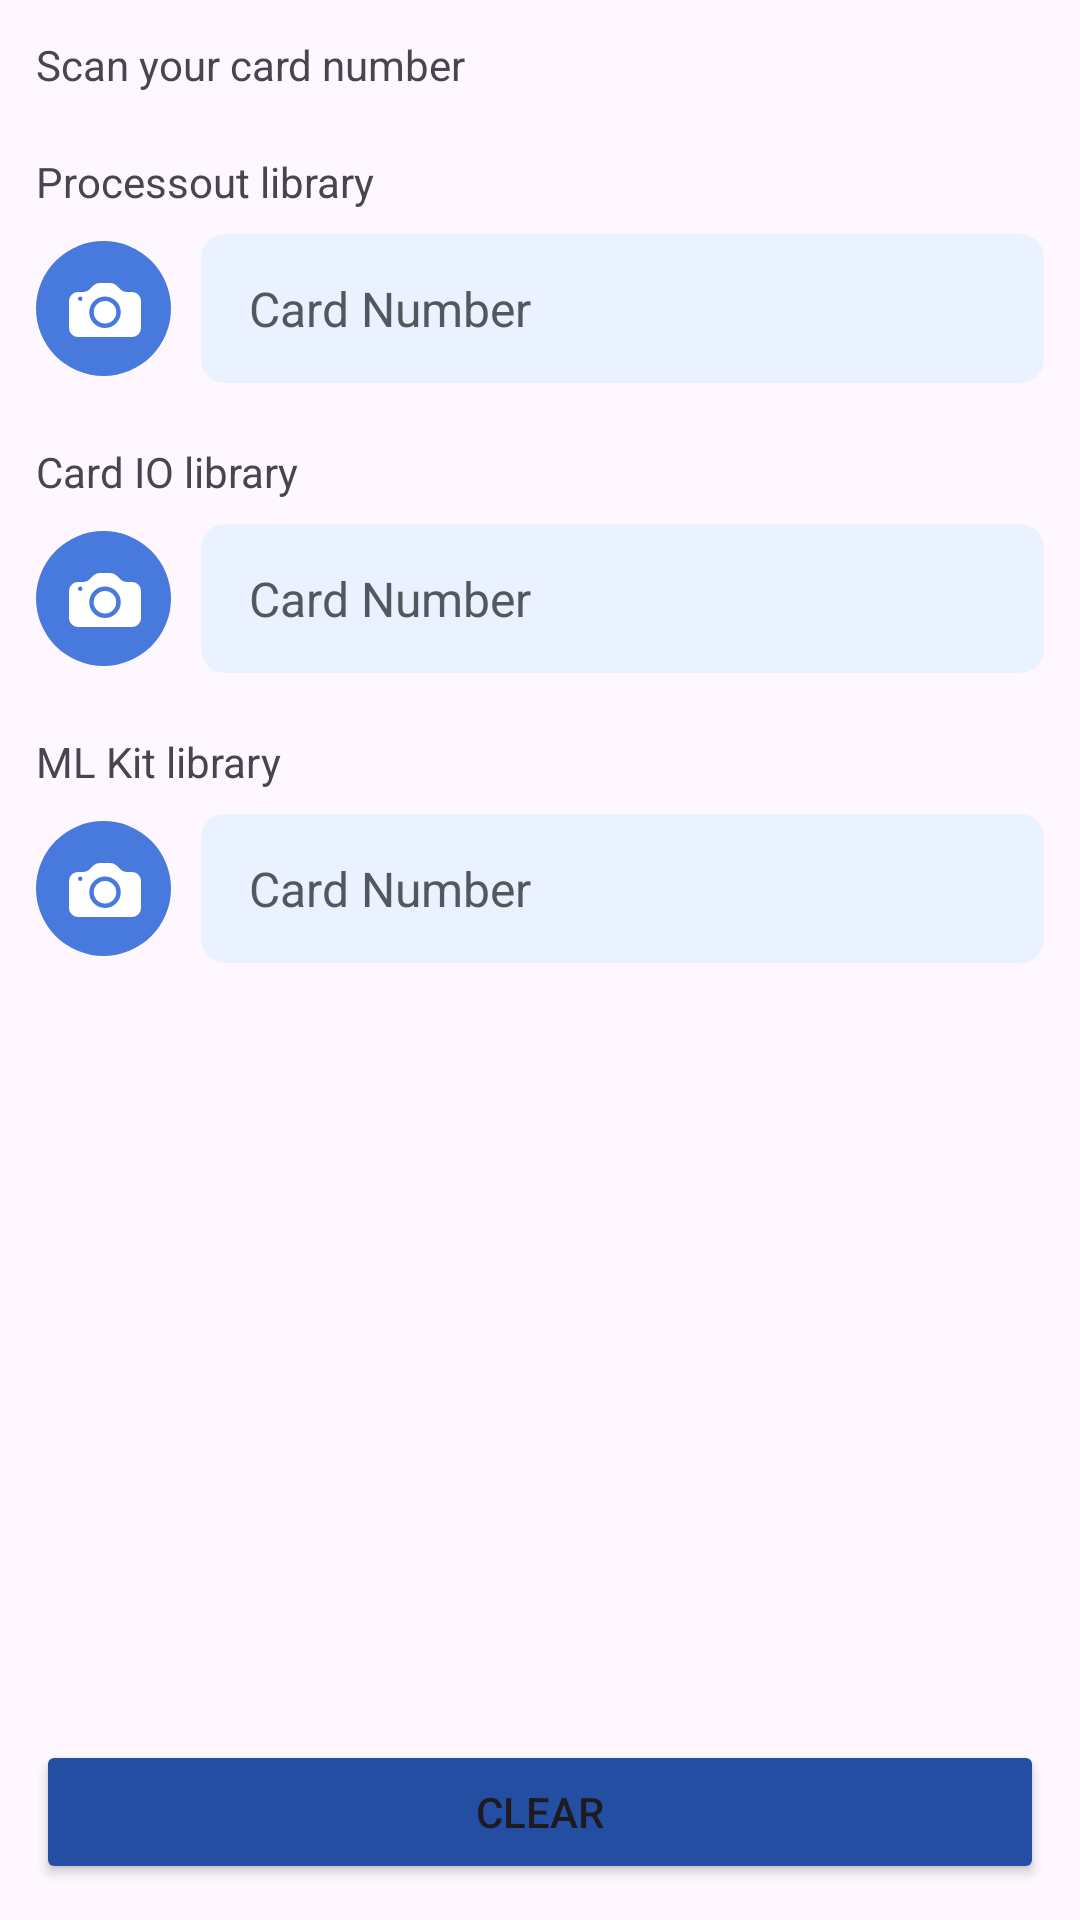

Named icons in this screenshot (1080px×1920px) and their bounding boxes, (x1, y1, x2, y2):
camera: (36, 241, 171, 376), (36, 531, 171, 666), (36, 821, 171, 956)
